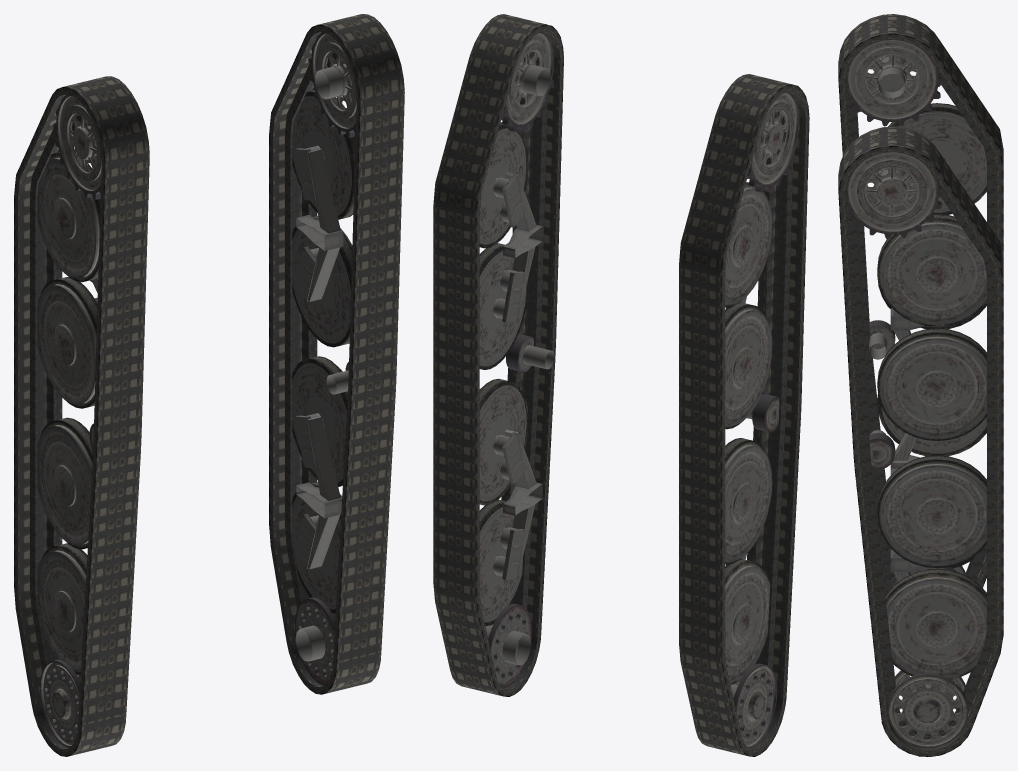
The model's file is Chassis.glb.
The picture shows the model from 3 angles, left to right: view 1: azimuth 30°, elevation 25°; view 2: azimuth 150°, elevation 25°; view 3: azimuth 270°, elevation 25°; orthographic projection. The views are drawn at different scales.
Visible parts, largest first — view 1: set_3_group_0, set_2_group_0, set_0_group_0, set_1_group_0; view 2: set_3_group_0, set_2_group_0, set_0_group_0, set_1_group_0; view 3: set_0_group_0, set_2_group_0, set_1_group_0, set_3_group_0.
Boxes of the visible parts, left/top/right/bottom form: set_3_group_0: left=14, top=76, right=149, bottom=756; set_2_group_0: left=269, top=14, right=404, bottom=694; set_0_group_0: left=292, top=32, right=356, bottom=685; set_1_group_0: left=37, top=94, right=101, bottom=747; set_3_group_0: left=679, top=74, right=809, bottom=756; set_2_group_0: left=433, top=14, right=563, bottom=696; set_0_group_0: left=479, top=32, right=554, bottom=688; set_1_group_0: left=725, top=91, right=799, bottom=748; set_0_group_0: left=845, top=152, right=986, bottom=747; set_2_group_0: left=838, top=126, right=1003, bottom=756; set_1_group_0: left=845, top=39, right=986, bottom=591; set_3_group_0: left=838, top=14, right=1003, bottom=594.
Size of the model in its own units: 2.04 by 4.4 by 1.08.
Materials: 4 (4 with a texture image).
